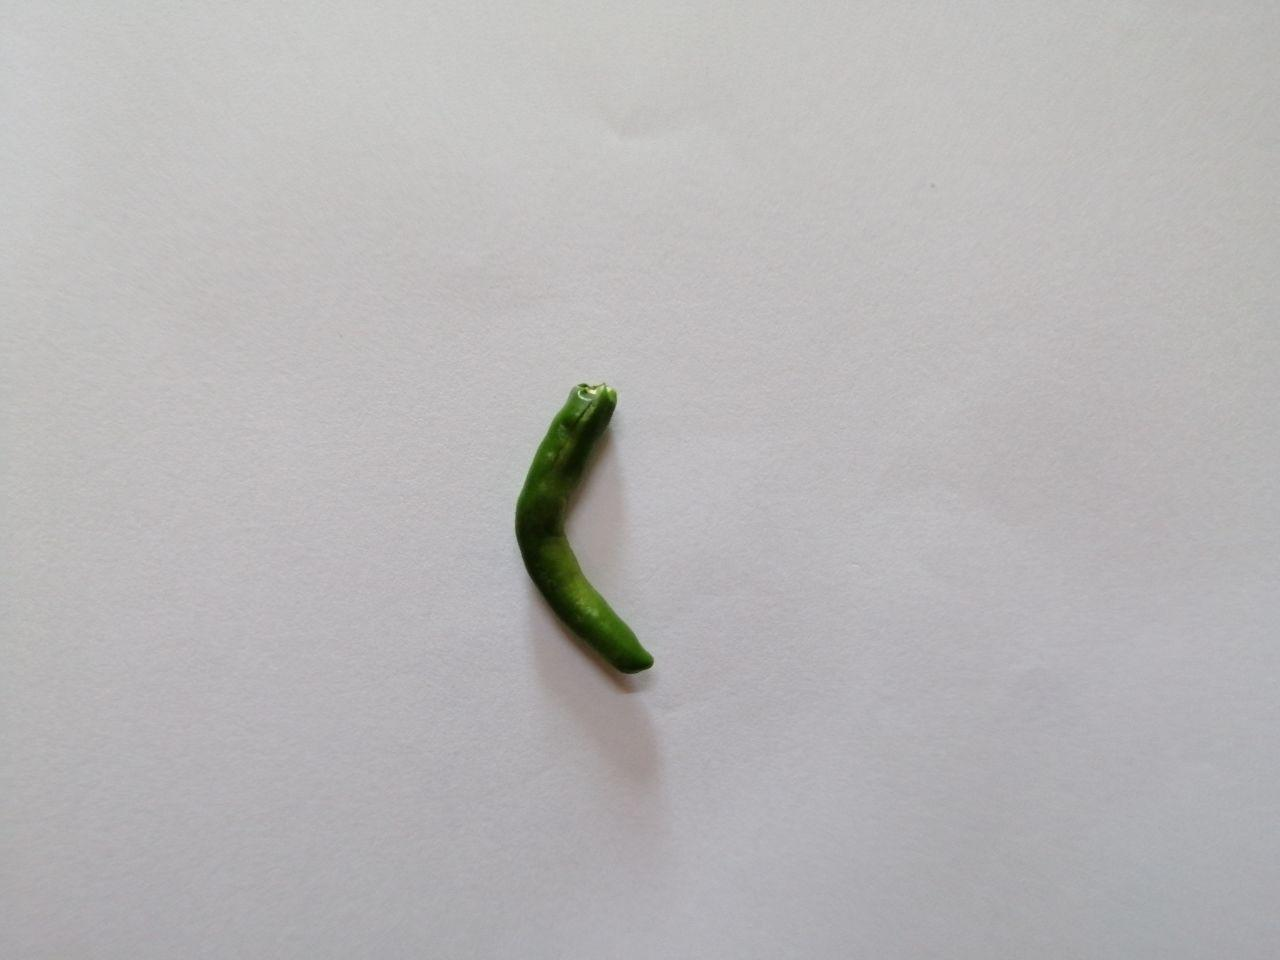lada hijau: (502, 365, 688, 719)
